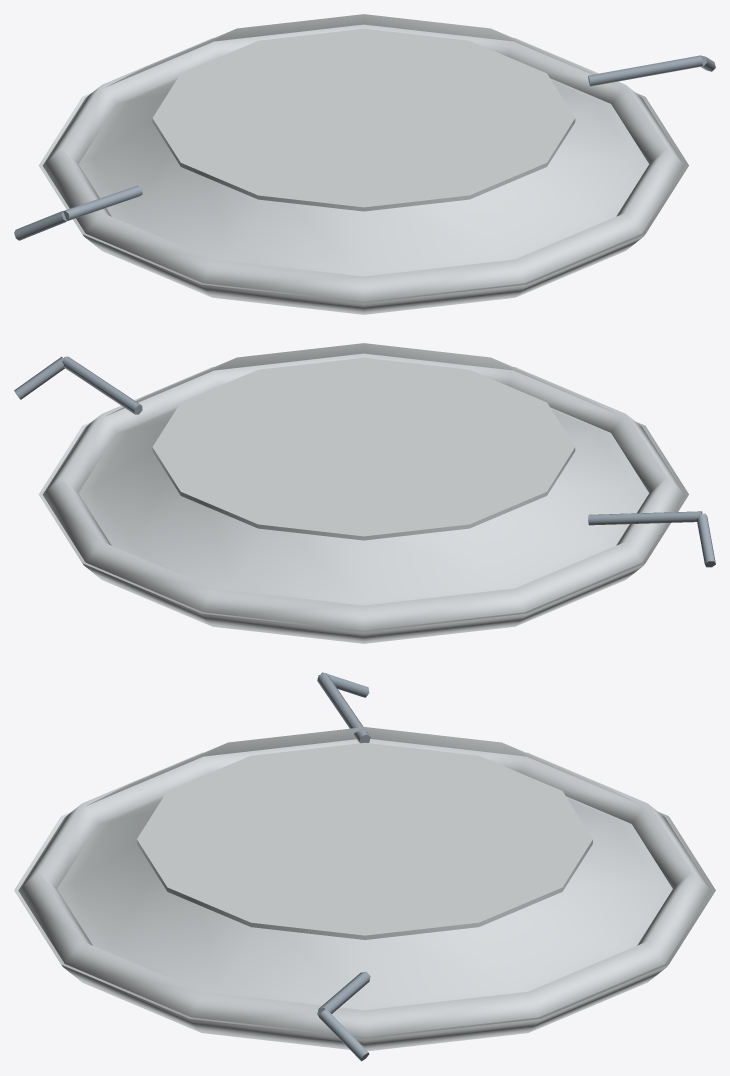
The model's file is source.glb.
The picture shows the model from 3 angles, top to bottom: view 1: azimuth 30°, elevation 25°; view 2: azimuth 150°, elevation 25°; view 3: azimuth 270°, elevation 25°; orthographic projection. The views are drawn at different scales.
Visible parts, largest first — view 1: 粉末涂层铝壳, 机加工金属; view 2: 粉末涂层铝壳, 机加工金属; view 3: 粉末涂层铝壳, 机加工金属.
Boxes of the visible parts, <box> form: 粉末涂层铝壳: <box>38,14,688,314</box>; 机加工金属: <box>14,55,715,240</box>; 粉末涂层铝壳: <box>38,343,688,643</box>; 机加工金属: <box>14,356,715,567</box>; 粉末涂层铝壳: <box>14,727,715,1051</box>; 机加工金属: <box>317,672,370,1061</box>.
Bounding box in the file's own units: 0.2797 × 0.0263 × 0.225.
